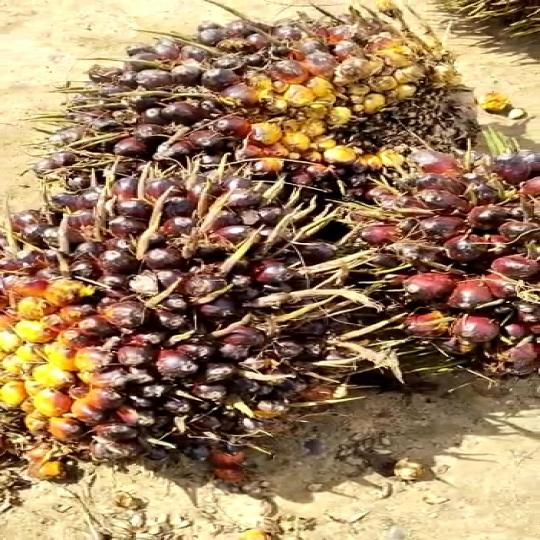kurang masak: (0, 162, 353, 488), (21, 0, 492, 186), (333, 150, 540, 400)
